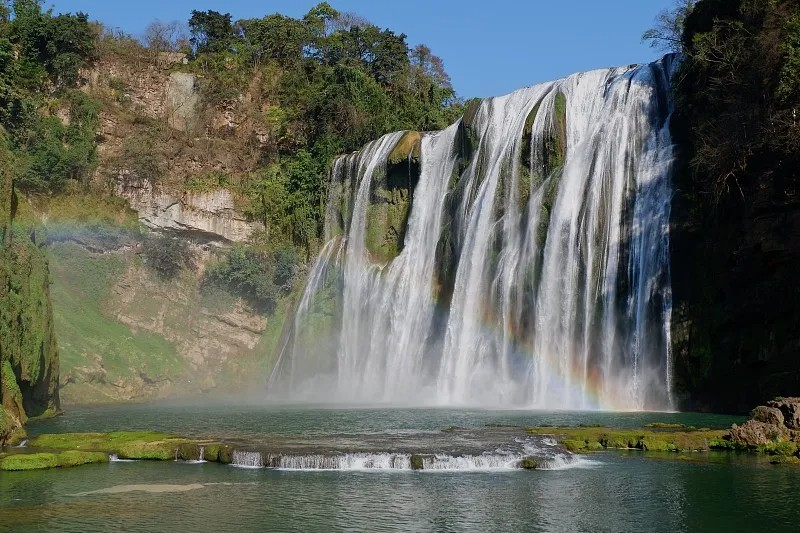Huangguoshu: (304, 55, 673, 409)
